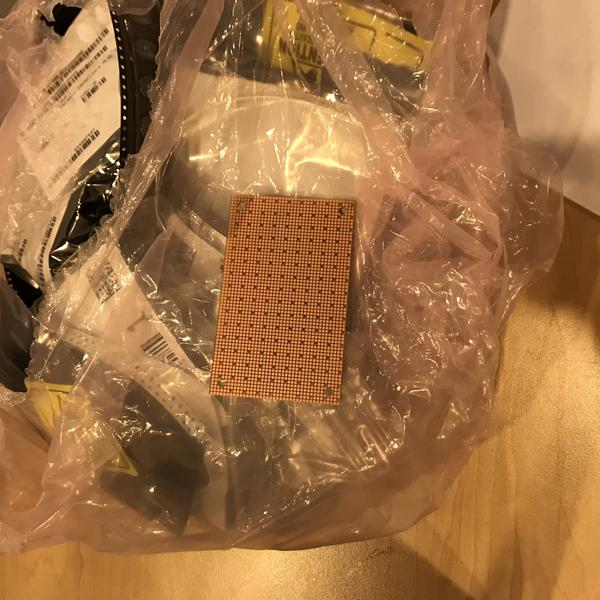board: (207, 189, 360, 409)
